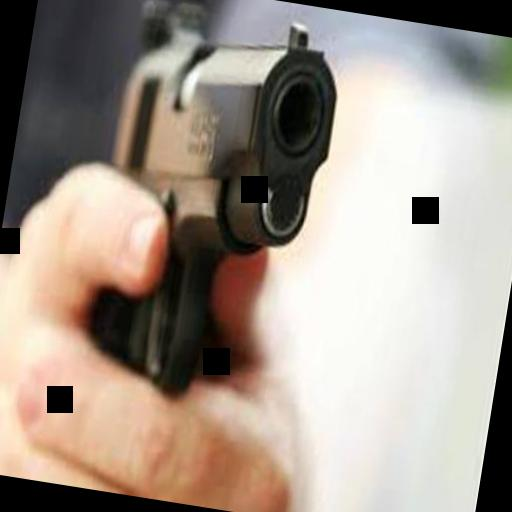Handgun: (69, 0, 350, 423)
